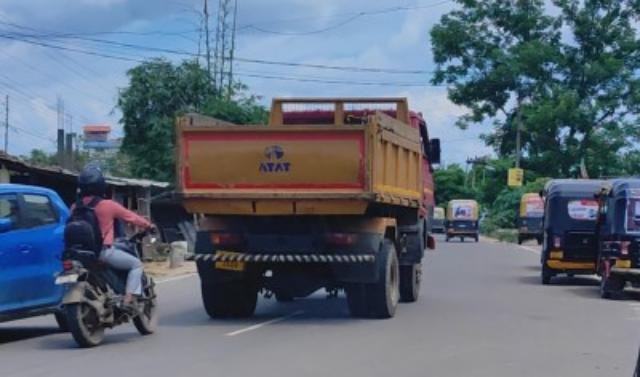licensePlate: (52, 275, 76, 285)
motorcycle: (51, 160, 156, 351)
withHelmet: (76, 161, 106, 196)
